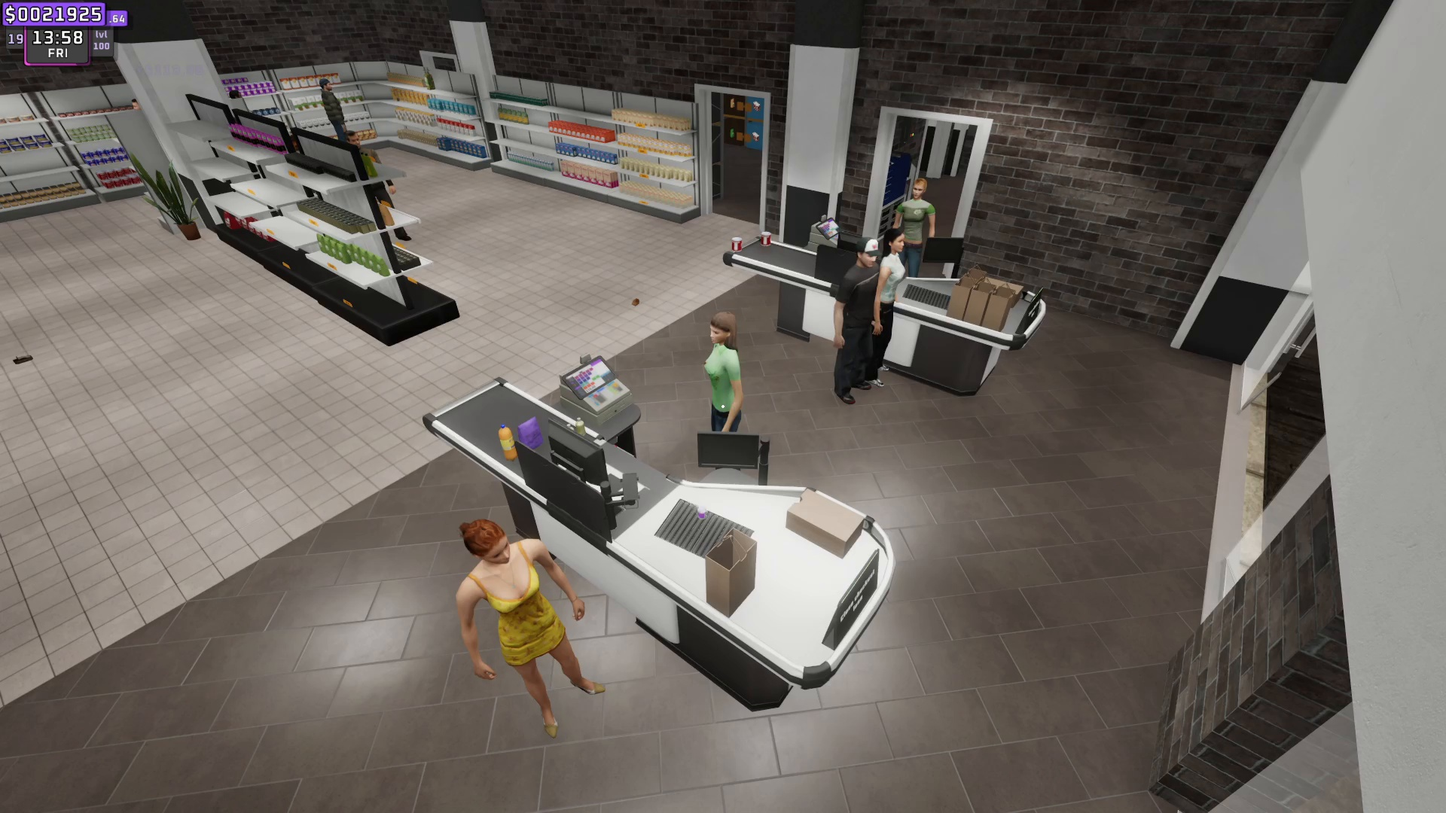Client: (462, 520, 611, 726), (865, 233, 917, 394), (833, 233, 876, 394)
Employee: (700, 309, 749, 430), (894, 178, 936, 268)
